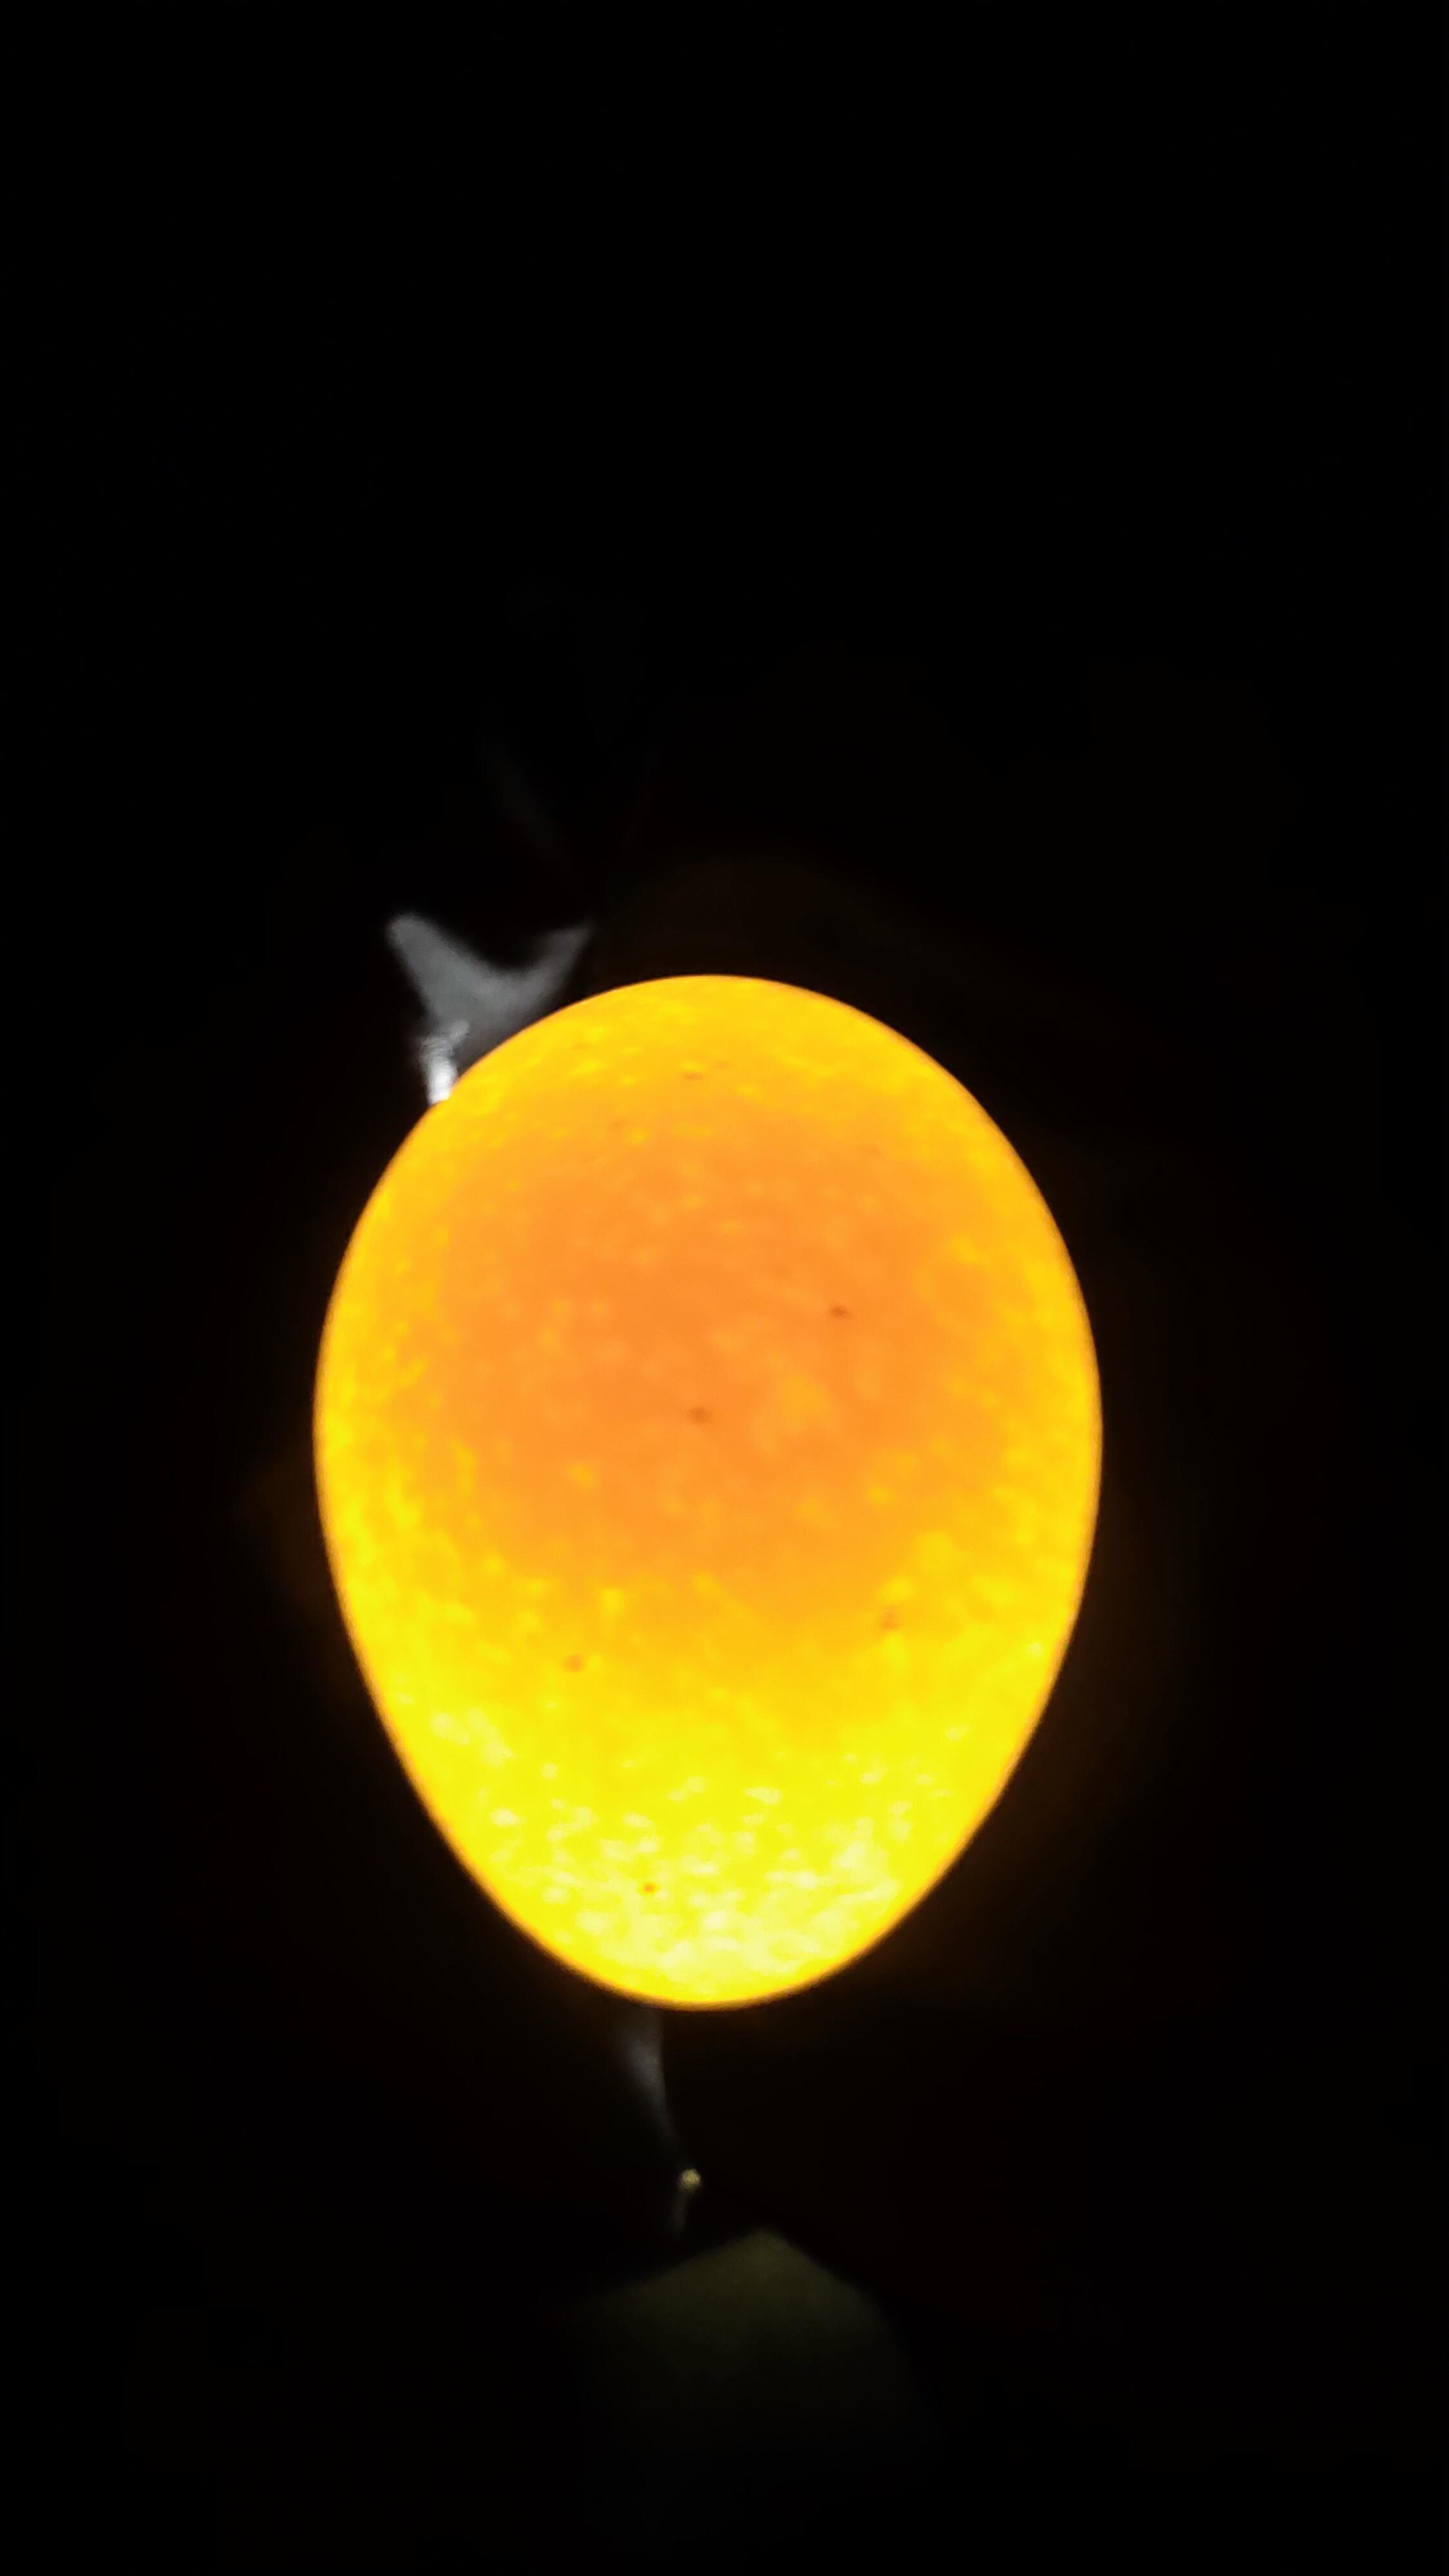A - Good: (244, 927, 1166, 2086)
